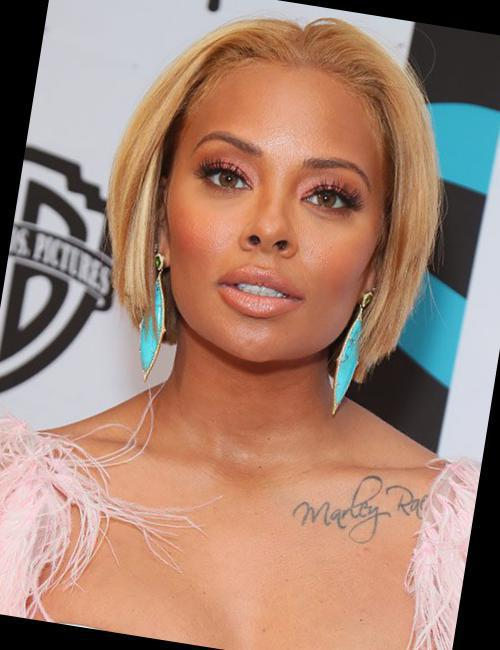Sober: (169, 79, 378, 339)
